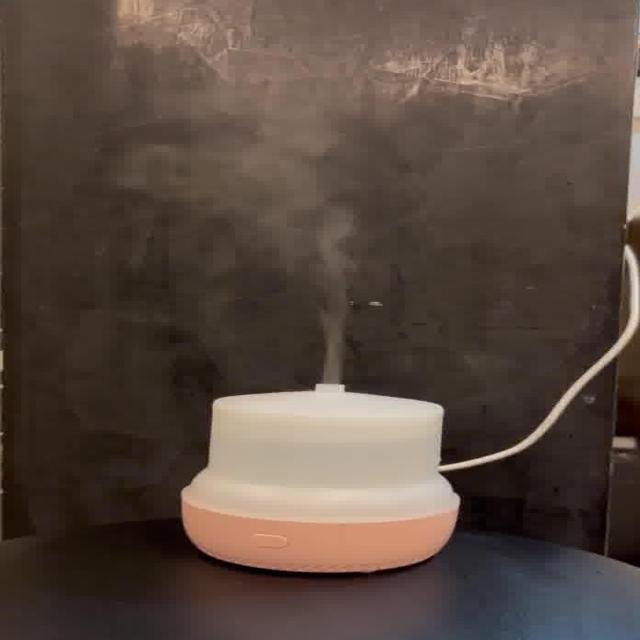fire: (181, 102, 370, 380)
